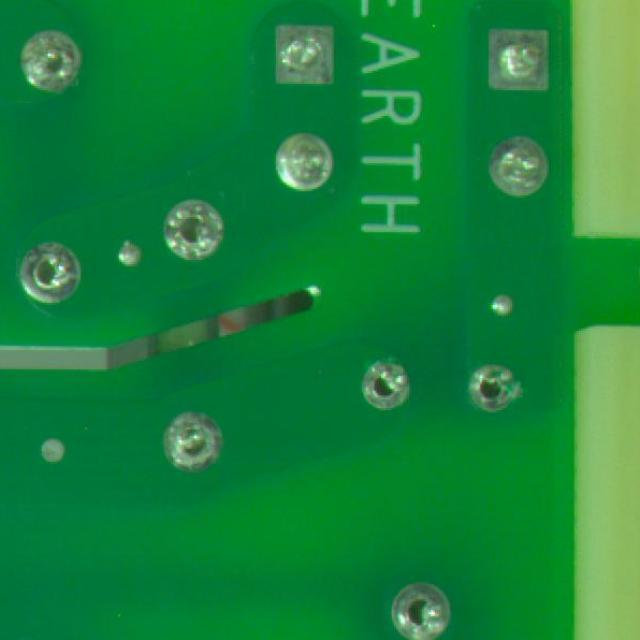Insufficient solder: (472, 19, 562, 92), (259, 16, 348, 87), (267, 124, 334, 212), (156, 406, 227, 478), (160, 198, 223, 272), (388, 578, 458, 640), (21, 22, 78, 98), (16, 246, 83, 310), (483, 138, 551, 201), (356, 352, 416, 423), (462, 358, 520, 414)
